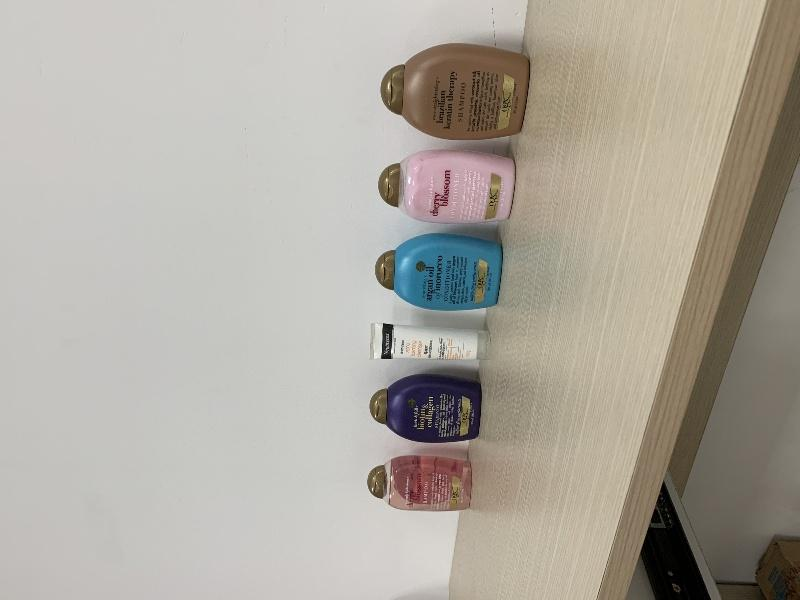AcneFoamingCleanser: (369, 322, 490, 361)
ArganOilOfMorocco_Conditioner: (375, 232, 503, 312)
BiotinCollagen_Shampoo: (369, 373, 481, 443)
BrazilianKeratinTherapy_Shampoo: (380, 43, 530, 140)
CherryBlossom_Conditioner: (379, 150, 515, 224)
CherryBlossom_Shampoo: (367, 455, 472, 512)
